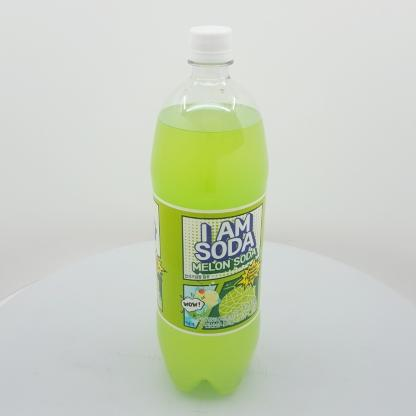-----------: (150, 25, 269, 395)
